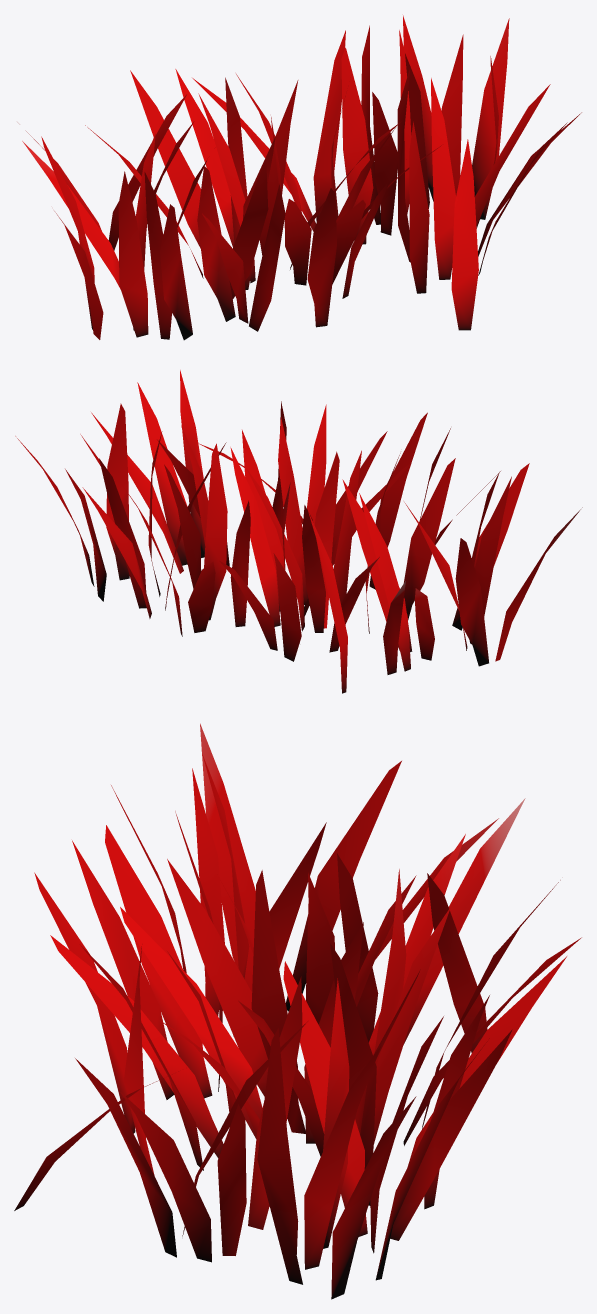
Rendered from SM_stylized_grass_var_01_lod3.fbx.
3 renders of one model, top to bottom at view 1: azimuth 30°, elevation 25°; view 2: azimuth 150°, elevation 25°; view 3: azimuth 270°, elevation 25°, orthographic. The views are drawn at different scales.
Parts seen in each view (by area): view 1: stylized_grass_var_01_lod3.001; view 2: stylized_grass_var_01_lod3.001; view 3: stylized_grass_var_01_lod3.001.
Boxes of the visible parts, <box> form: stylized_grass_var_01_lod3.001: <box>17,15,581,340</box>; stylized_grass_var_01_lod3.001: <box>15,370,582,693</box>; stylized_grass_var_01_lod3.001: <box>14,723,581,1299</box>.
Bounding box in the file's own units: 190 × 63.38 × 121.
